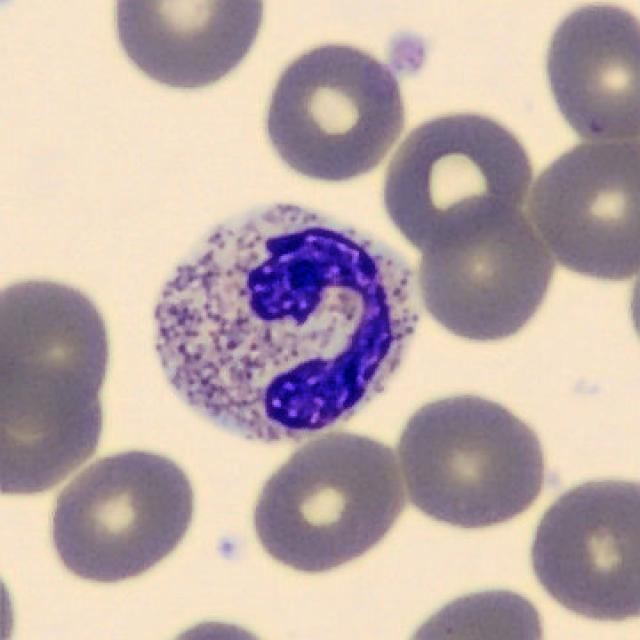Bastonete: (155, 204, 416, 439)
